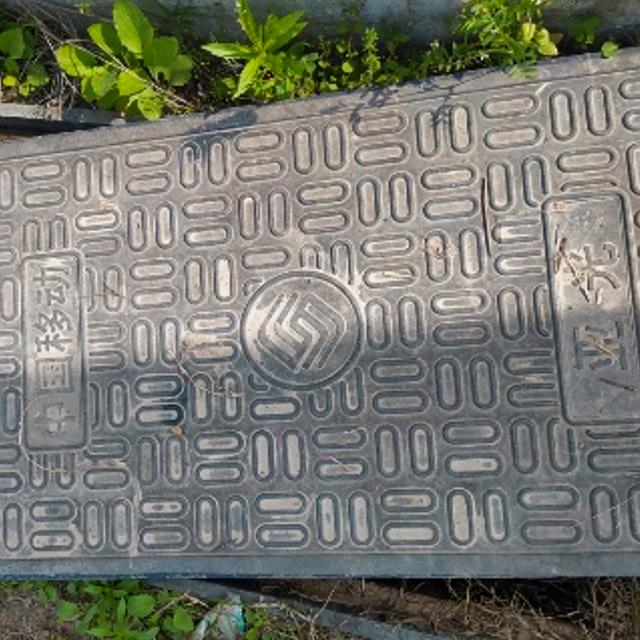uncovered: (0, 31, 640, 640)
